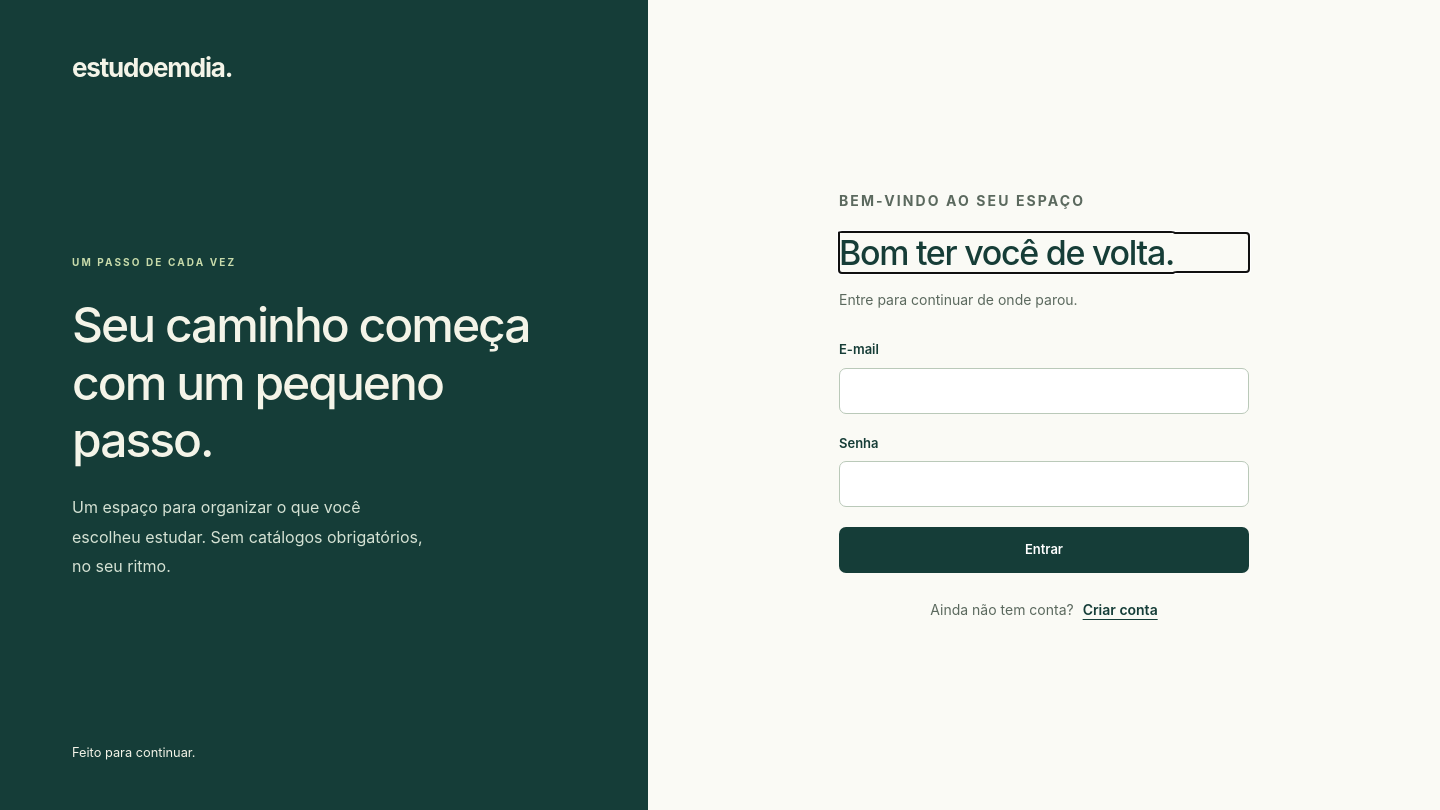
acesso e rotas privadas › mostra erro de credenciais e não anuncia login bem-sucedido
Step 1. Type "demo@example.test" into the field labelled "E-mail" → (1044, 391), box left=839, top=368, right=1249, bottom=414
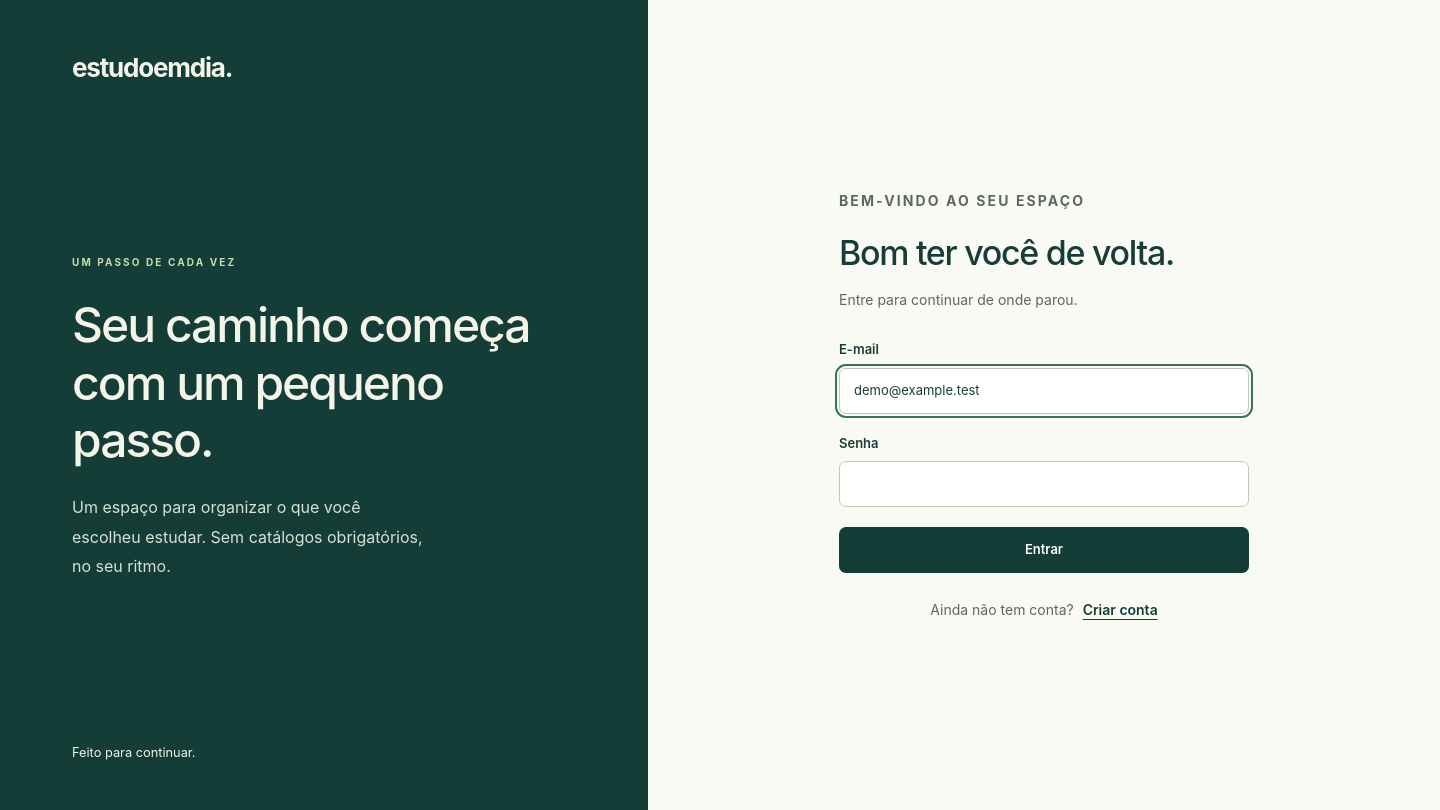
Step 2. Type "senha-fictícia" into the password field labelled "Senha" → (1044, 484), box left=839, top=461, right=1249, bottom=507
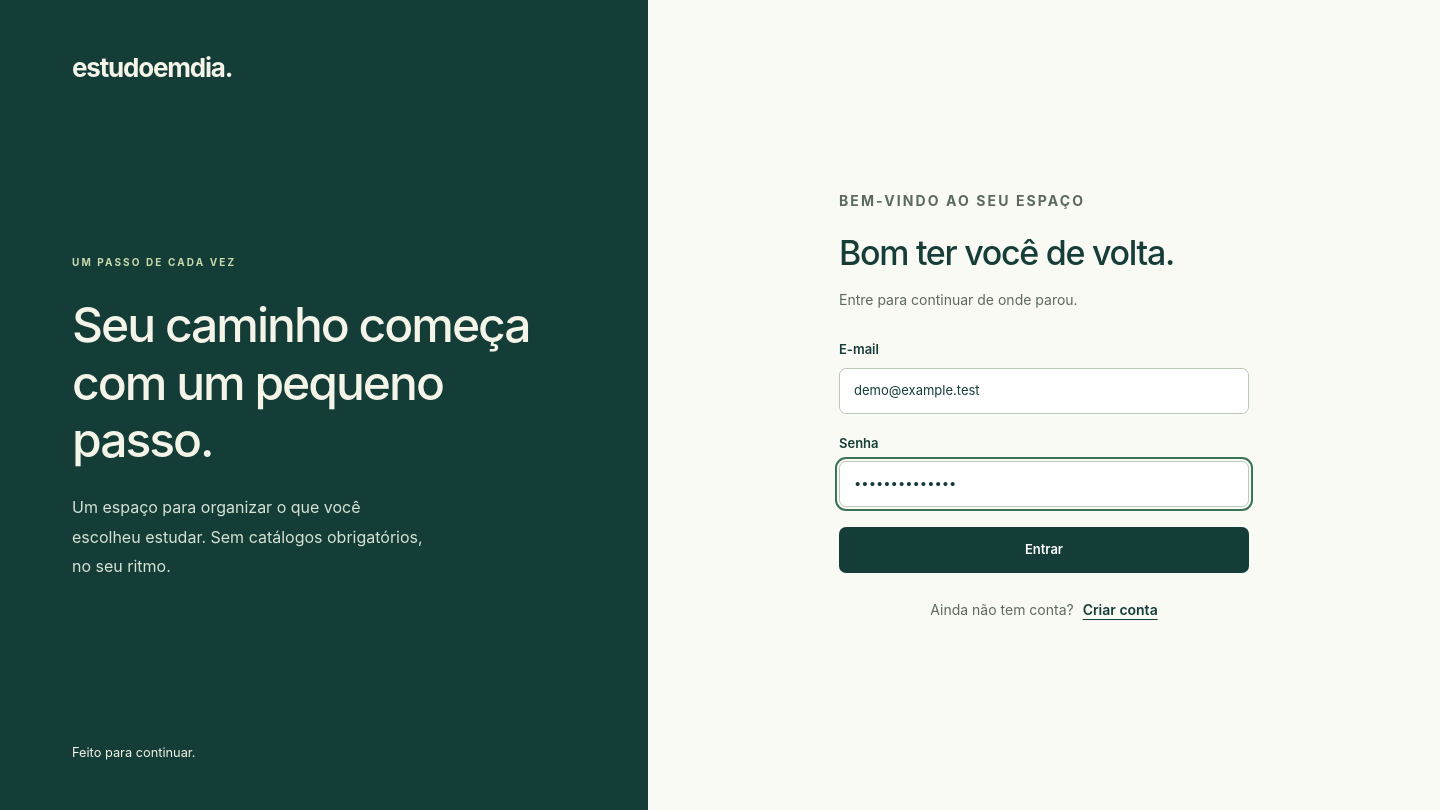
Step 3. Click the button "Entrar" → click(1044, 550), box left=839, top=527, right=1249, bottom=573
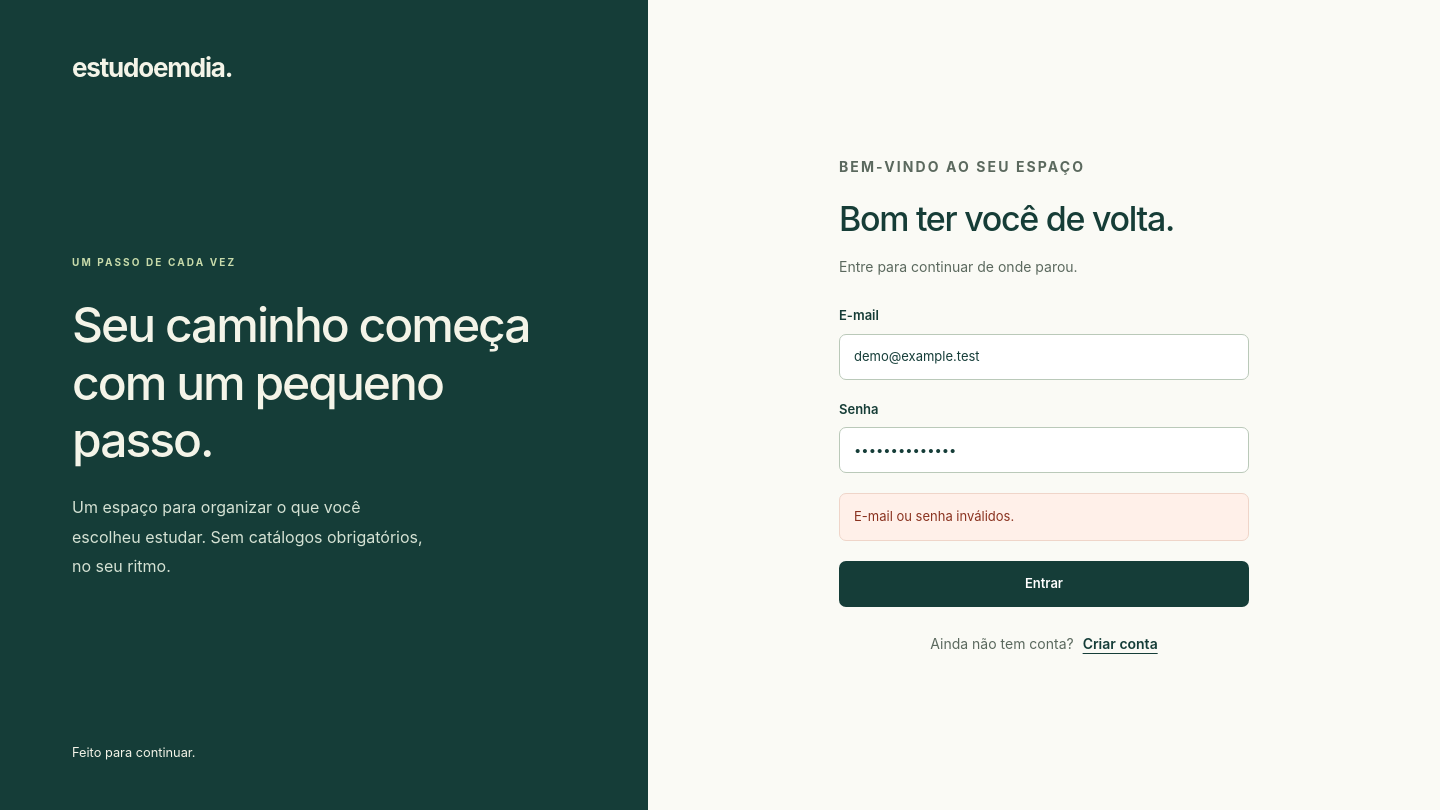
Expected: the button "Entrar" is enabled, left=839, top=561, right=1249, bottom=607
Expected: the message "E-mail ou senha inválidos." is shown, left=839, top=493, right=1249, bottom=541
Expected: the message reads "E-mail ou senha inválidos.", left=854, top=508, right=1014, bottom=524
